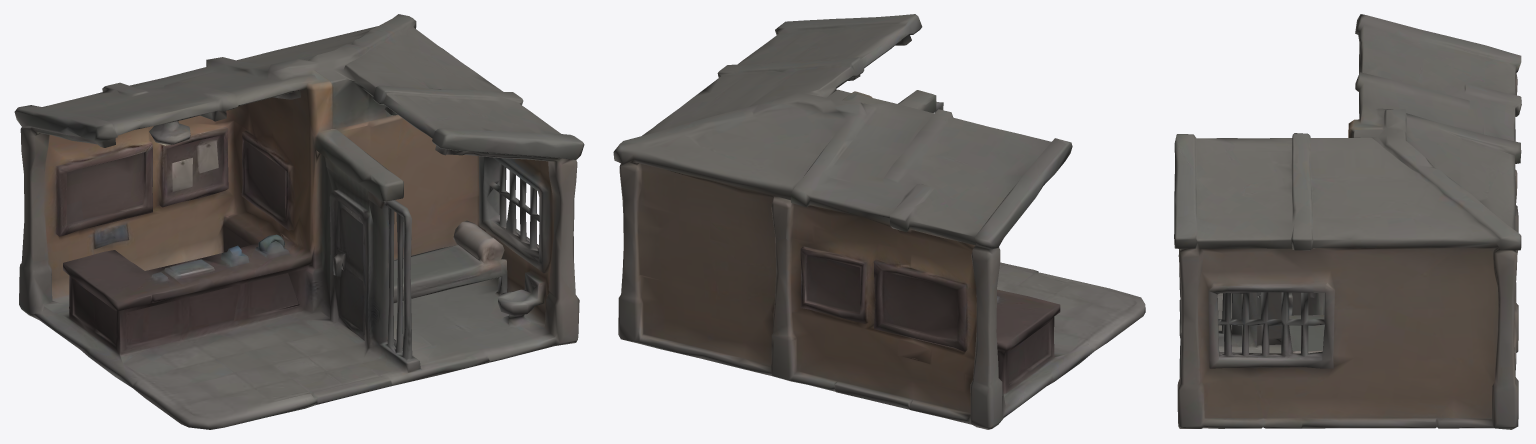
The model's file is police_station_interior.glb.
3 renders of one model, left to right at view 1: azimuth 30°, elevation 25°; view 2: azimuth 150°, elevation 25°; view 3: azimuth 270°, elevation 25°, orthographic. The views are drawn at different scales.
Parts seen in each view (by area): view 1: tripo_node_924dcd77-0f2e-469d-8eed-a7405112eda2; view 2: tripo_node_924dcd77-0f2e-469d-8eed-a7405112eda2; view 3: tripo_node_924dcd77-0f2e-469d-8eed-a7405112eda2.
Boxes of the visible parts, left/top/right/bottom form: tripo_node_924dcd77-0f2e-469d-8eed-a7405112eda2: left=14, top=14, right=584, bottom=429; tripo_node_924dcd77-0f2e-469d-8eed-a7405112eda2: left=613, top=14, right=1145, bottom=429; tripo_node_924dcd77-0f2e-469d-8eed-a7405112eda2: left=1174, top=14, right=1521, bottom=429.
Bounding box in the file's own units: 1 × 0.5916 × 0.7914.
Materials: 1 (1 with a texture image).
